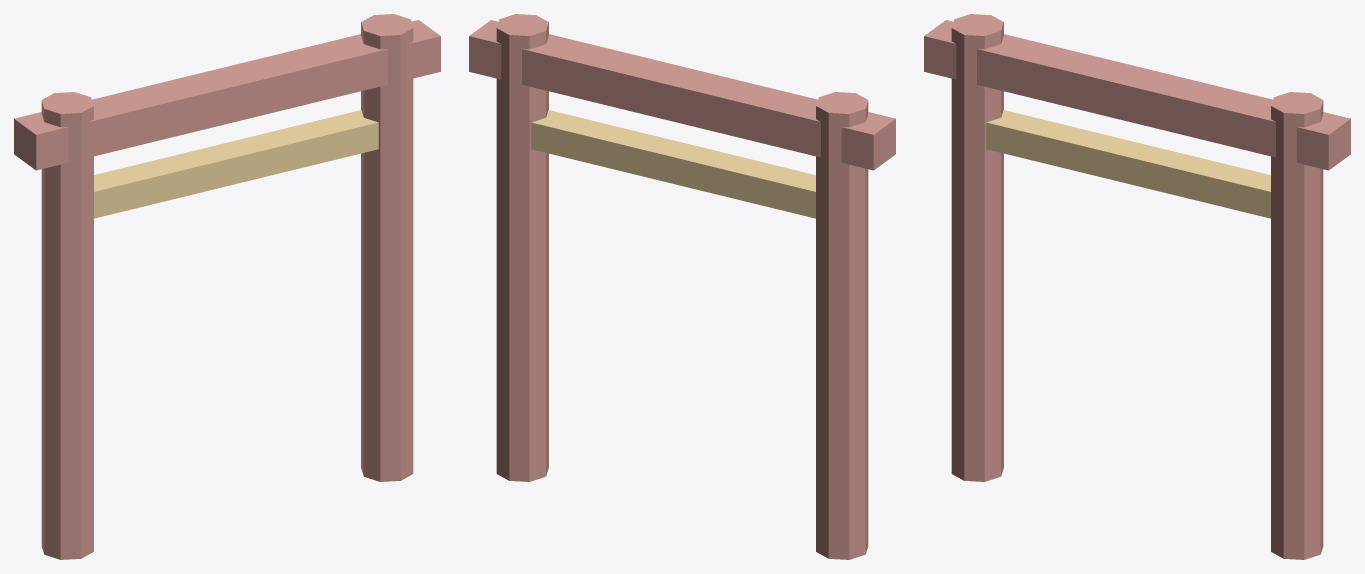
Rendered from shrine_gate.glb.
The picture shows the model from 3 angles, left to right: view 1: azimuth 30°, elevation 25°; view 2: azimuth 150°, elevation 25°; view 3: azimuth 330°, elevation 25°; orthographic projection.
Visible parts, largest first — view 1: shrine_gate_0, shrine_gate_1, shrine_gate_2, shrine_gate_3; view 2: shrine_gate_0, shrine_gate_1, shrine_gate_2, shrine_gate_3; view 3: shrine_gate_1, shrine_gate_0, shrine_gate_2, shrine_gate_3.
Part boxes in pixels (x1=…): shrine_gate_0: x1=41, y1=92, x2=93, y2=559; shrine_gate_1: x1=361, y1=14, x2=413, y2=481; shrine_gate_2: x1=14, y1=20, x2=440, y2=170; shrine_gate_3: x1=94, y1=110, x2=378, y2=218; shrine_gate_0: x1=816, y1=92, x2=868, y2=559; shrine_gate_1: x1=496, y1=14, x2=548, y2=481; shrine_gate_2: x1=469, y1=20, x2=895, y2=170; shrine_gate_3: x1=531, y1=110, x2=815, y2=218; shrine_gate_1: x1=1271, y1=92, x2=1323, y2=559; shrine_gate_0: x1=951, y1=14, x2=1003, y2=481; shrine_gate_2: x1=924, y1=20, x2=1350, y2=170; shrine_gate_3: x1=986, y1=110, x2=1270, y2=218.
Size of the model in its own units: 1.9 by 2 by 0.22.
